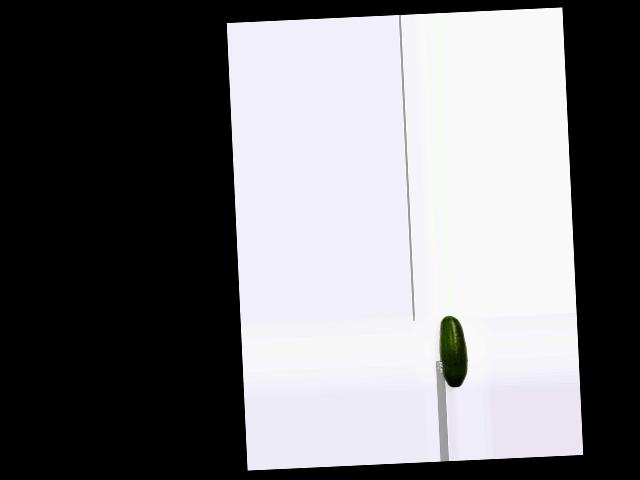cucumber: (437, 314, 469, 389)
